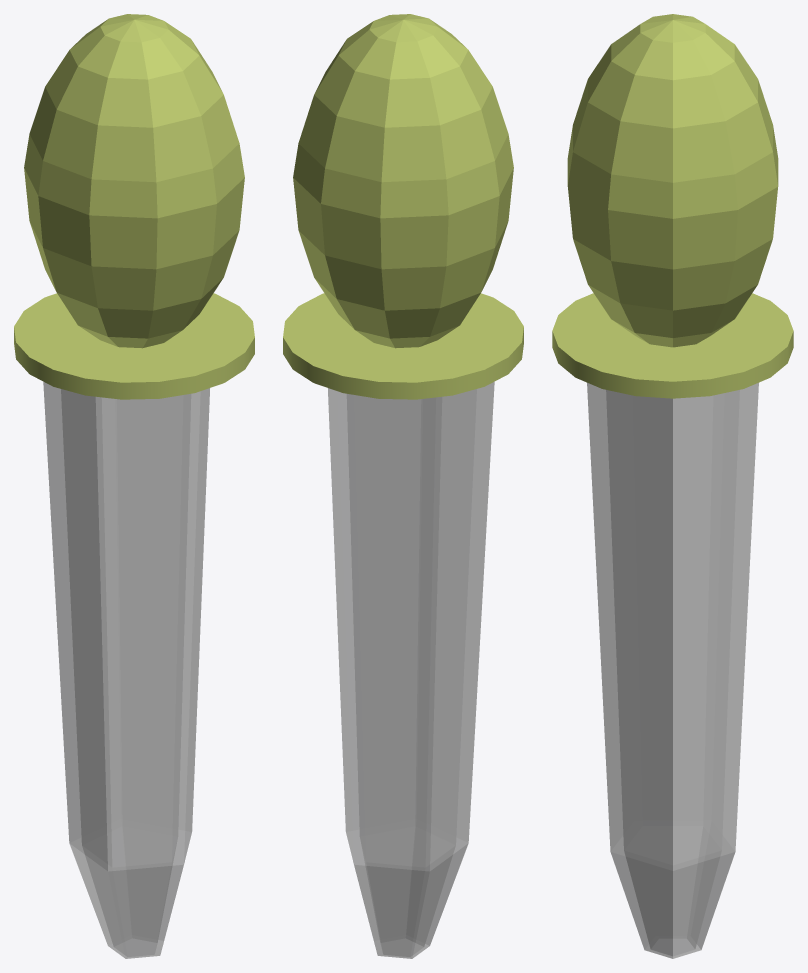
File: Absorber.fbx
3 renders of one model, left to right at view 1: azimuth 30°, elevation 25°; view 2: azimuth 150°, elevation 25°; view 3: azimuth 270°, elevation 25°, orthographic.
Visible parts, largest first — view 1: pSphere3; view 2: pSphere3; view 3: pSphere3.
Boxes of the visible parts, x1,y1,x2,y2 form: pSphere3: (14,14,254,958); pSphere3: (283,14,523,958); pSphere3: (552,14,793,958).
Size of the model in its own units: 3.38 by 14.32 by 3.38.
